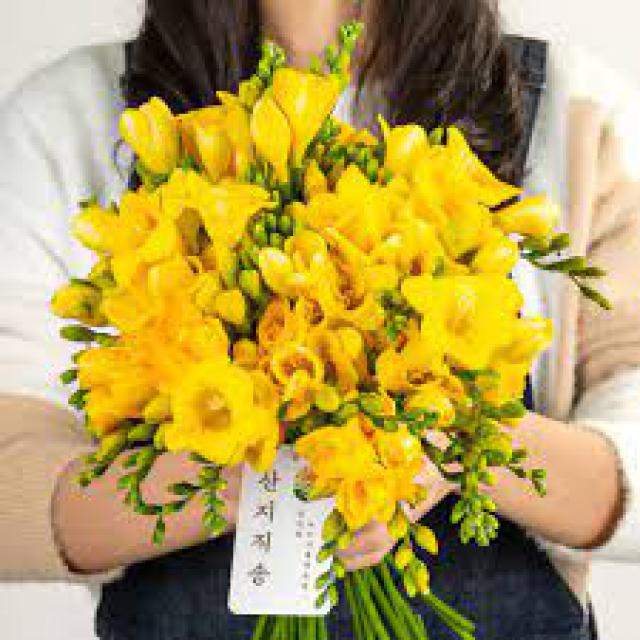freesia: (74, 200, 207, 349), (286, 414, 436, 530), (152, 350, 273, 476), (398, 254, 519, 376), (283, 213, 392, 344), (70, 331, 188, 448), (243, 302, 364, 409), (110, 96, 212, 196), (252, 65, 352, 164), (173, 94, 254, 194)
